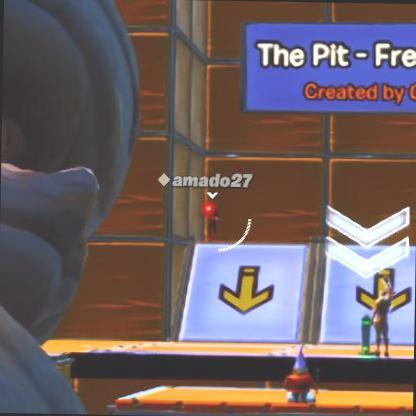person: (368, 284, 396, 357), (199, 200, 222, 238)
